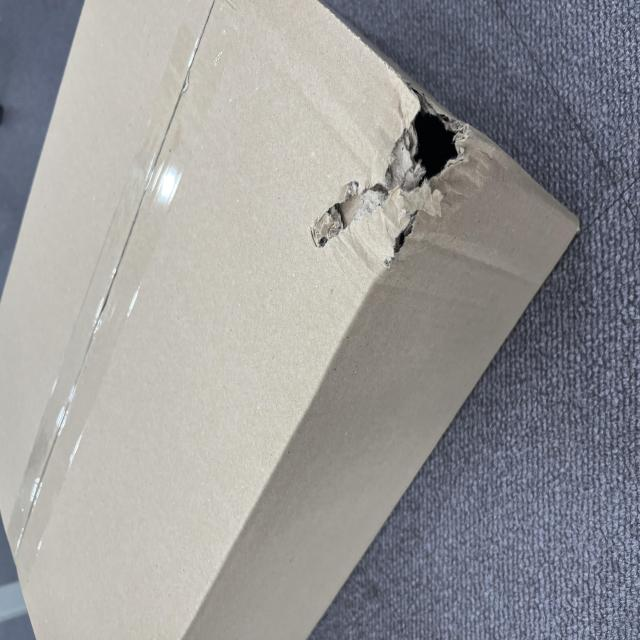damaged: (308, 526, 404, 612)
